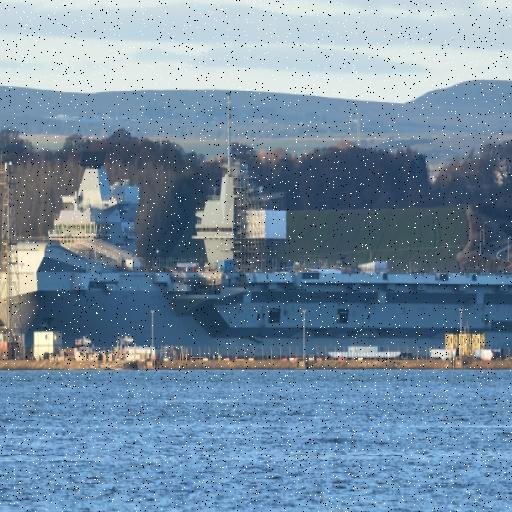Portanaves: (1, 80, 512, 367)
